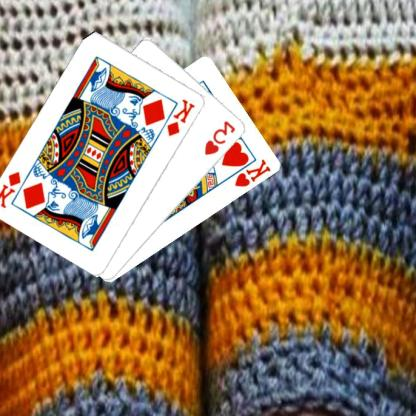3H: (204, 118, 239, 156)
KD: (166, 96, 198, 138), (0, 168, 25, 209)
KH: (234, 157, 274, 188)
